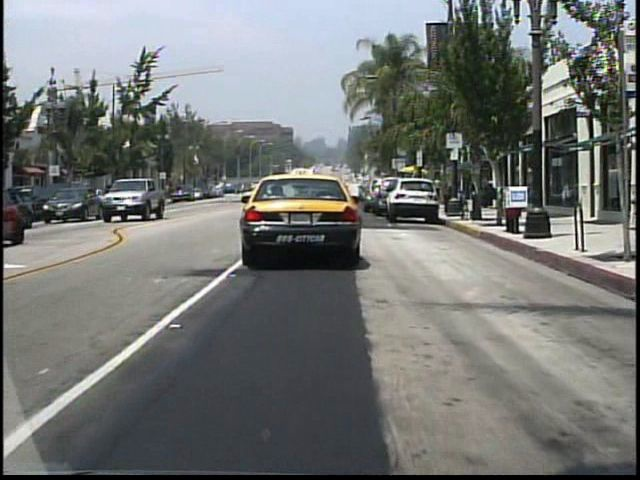person: (431, 176, 442, 203)
